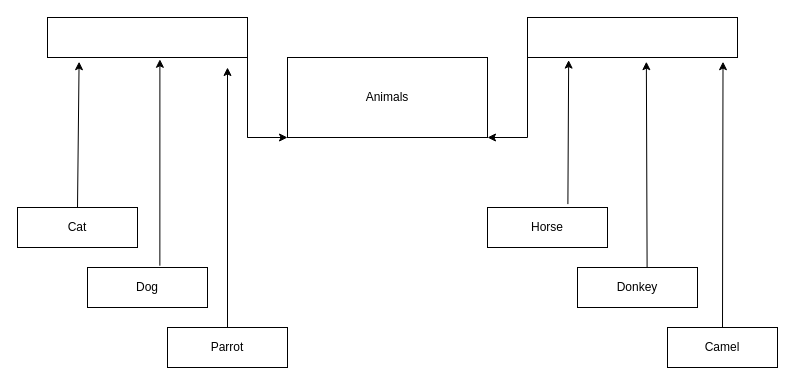
Image size: 795x385. Some labels were removed from this diagram. Each missing label, with the centre of its shape:
DomesticAnimals: point 147,37
PackAnimals: point 632,37
